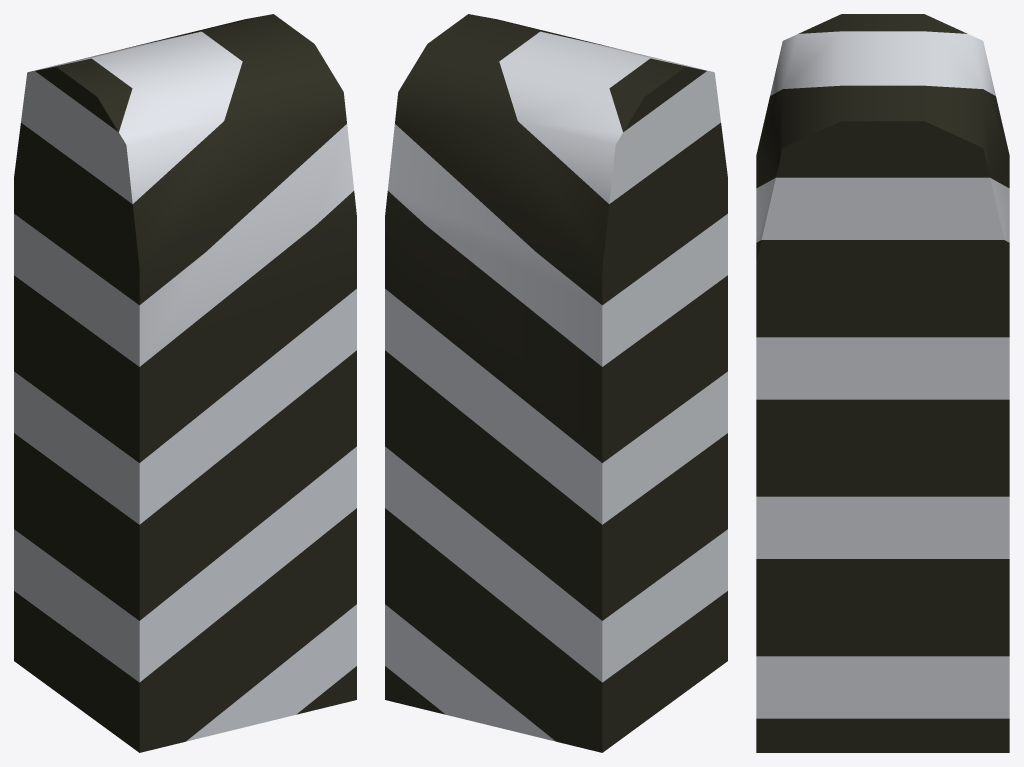
File: Small_Road_Block.glb
3 renders of one model, left to right at view 1: azimuth 30°, elevation 25°; view 2: azimuth 150°, elevation 25°; view 3: azimuth 270°, elevation 25°, orthographic.
Visible parts, largest first — view 1: Small Road Block; view 2: Small Road Block; view 3: Small Road Block.
Part boxes in pixels (x1=…): Small Road Block: x1=14, y1=14, x2=356, y2=752; Small Road Block: x1=385, y1=14, x2=727, y2=752; Small Road Block: x1=756, y1=14, x2=1009, y2=752.
Bounding box in the file's own units: 2 × 5.5 × 2.
1 material, 1 textured.
